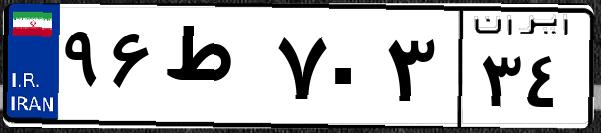0: (330, 28, 385, 110)
3: (385, 28, 445, 110), (475, 38, 525, 113)
4: (525, 38, 570, 115)
6: (110, 28, 158, 98)
7: (270, 28, 330, 110)
9: (57, 26, 110, 100)
ط: (158, 20, 270, 120)
